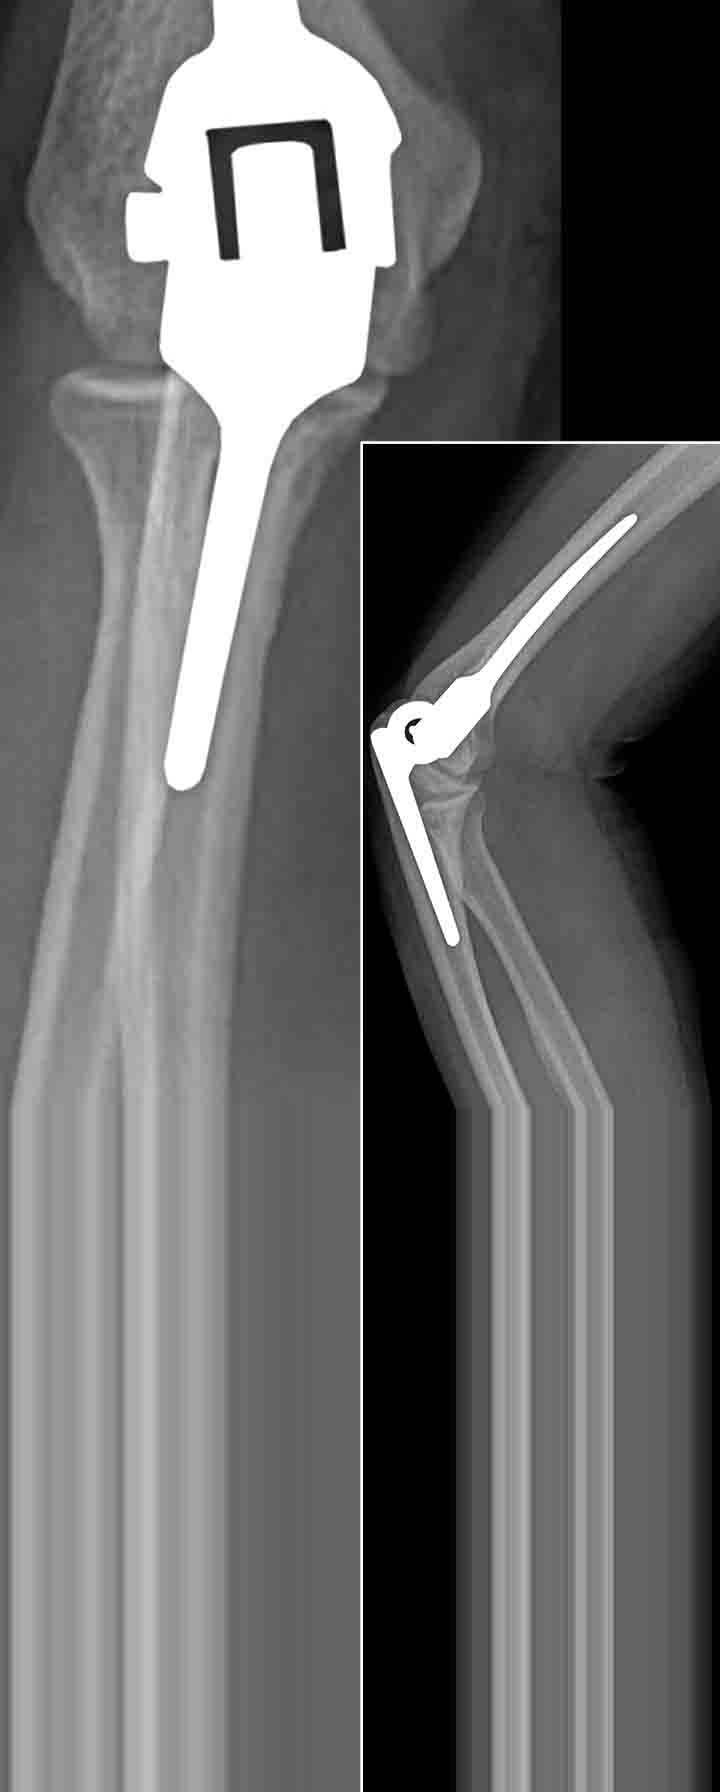Elbow - Osteonics - Stryker: (79, 1, 422, 670), (368, 501, 645, 966)
